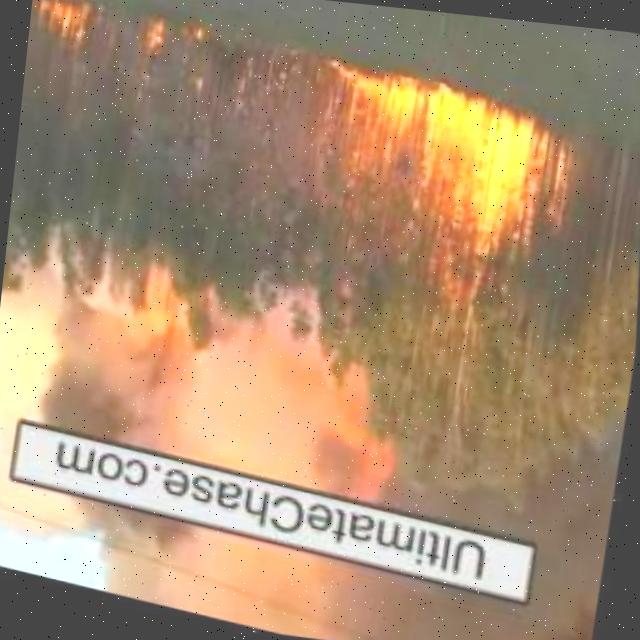fire: (333, 73, 571, 223), (120, 270, 199, 342), (343, 405, 406, 492), (37, 0, 110, 51), (139, 12, 181, 62)
